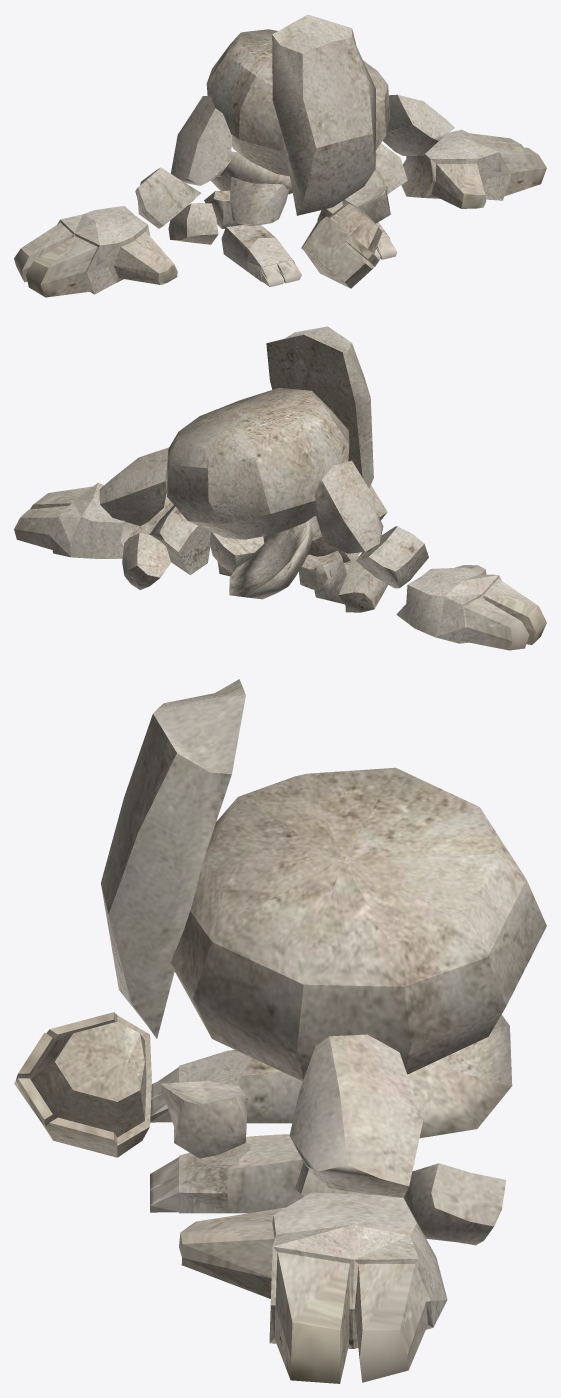
The model's file is Golem_dead.FBX.
3 views of the same model, one above another, from view 1: azimuth 30°, elevation 25°; view 2: azimuth 150°, elevation 25°; view 3: azimuth 270°, elevation 25° (orthographic). The views are drawn at different scales.
Parts seen in each view (by area): view 1: Sphere001; view 2: Sphere001; view 3: Sphere001.
Part boxes in pixels (x1,y1,x2,y2): Sphere001: (14, 14, 546, 297); Sphere001: (14, 326, 546, 650); Sphere001: (14, 679, 546, 1383).
Bounding box in the file's own units: 116 × 52.73 × 54.89.
